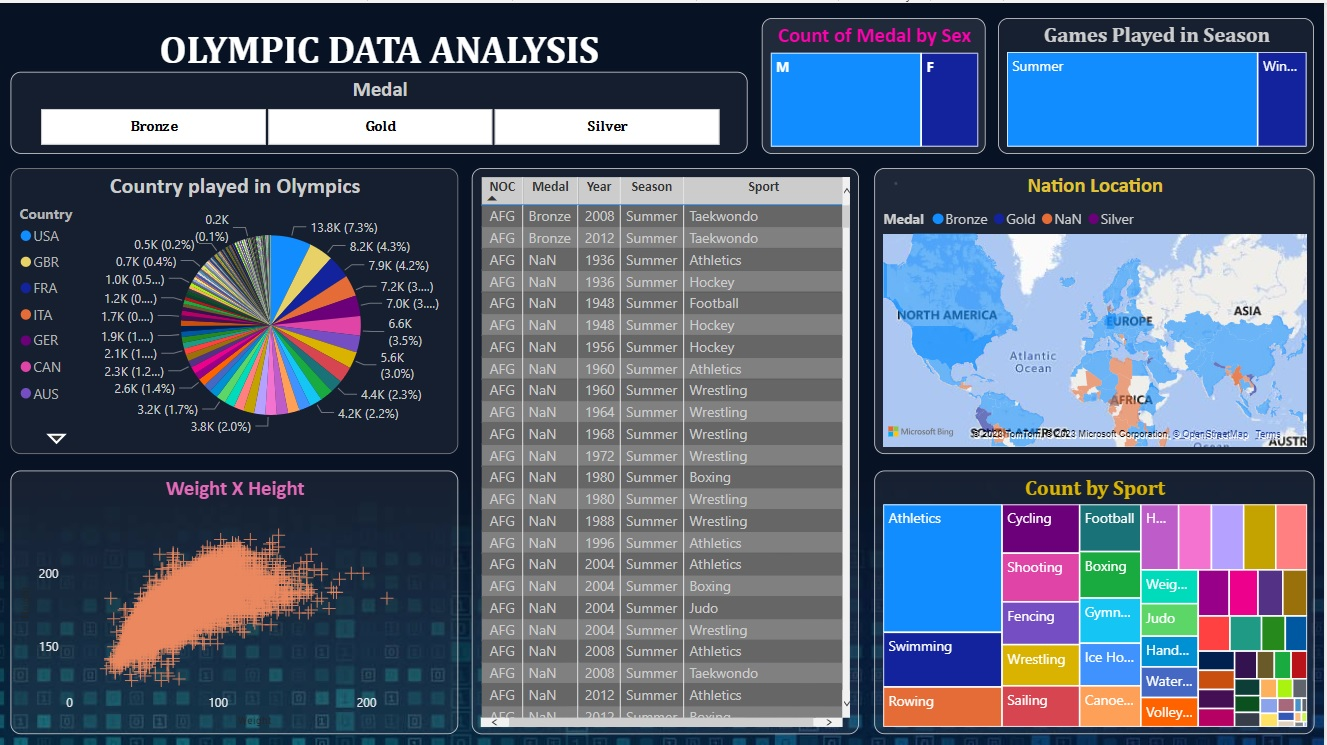

What the dashboard file says about the page in this screenshot:
{"tool":"powerbi","page":{"name":"Page 1","canvas":[1280,720],"ordinal":0},"visuals":[{"type":"pieChart","title":"Country played in Olympics","fields":{"Category":["Olympic_data_shorted.NOC"],"Y":["CountNonNull(Olympic_data_shorted.Medal)"]},"box":[12.1,159.2,431.8,276.2],"z":0},{"type":"tableEx","fields":{"Values":["Olympic_data_shorted.NOC","Olympic_data_shorted.Medal","Olympic_data_shorted.Year","Olympic_data_shorted.Season","Olympic_data_shorted.Sport"]},"box":[457.1,159.2,373.9,546.3],"z":1000},{"type":"slicer","title":"Medal","fields":{"Values":["Olympic_data_shorted.Medal"]},"box":[12.1,66.3,711.6,79.6],"z":2000},{"type":"filledMap","title":"Nation Location","fields":{"Category":["Olympic_data_shorted.NOC"],"Series":["Olympic_data_shorted.Medal"]},"box":[845.4,159.2,424.5,276.2],"z":3000},{"type":"scatterChart","title":"Weight X Height","fields":{"X":["Olympic_data_shorted.Weight"],"Y":["Olympic_data_shorted.Height"]},"box":[12.1,451.1,431.8,254.5],"z":4000},{"type":"treemap","fields":{"Group":["Olympic_data_shorted.Sex"],"Values":["CountNonNull(Olympic_data_shorted.Medal)"]},"box":[736.9,14.5,215.9,131.5],"z":5000},{"type":"treemap","title":"Count by Sport","fields":{"Group":["Olympic_data_shorted.Sport"],"Values":["CountNonNull(Olympic_data_shorted.Medal)"]},"box":[845.4,451.1,424.5,254.5],"z":6000},{"type":"treemap","title":"Games Played in Season","fields":{"Group":["Olympic_data_shorted.Season"],"Values":["CountNonNull(Olympic_data_shorted.Medal)"]},"box":[964.8,14.5,305.1,131.5],"z":7000},{"type":"textbox","box":[12.1,0,711.6,80.8],"z":8000}]}

Visuals, with their boxes in screenshot pixels (x1, y1, x2, y2), scaled from the page's 1280x720 canvas onto the 1327x745 screenshot:
"Country played in Olympics" pieChart: 13:165:460:451
tableEx - Olympic_data_shorted.NOC x Olympic_data_shorted.Medal: 474:165:862:730
"Medal" slicer: 13:69:750:151
"Nation Location" filledMap: 876:165:1317:451
"Weight X Height" scatterChart: 13:467:460:730
treemap - Olympic_data_shorted.Sex x CountNonNull(Olympic_data_shorted.Medal): 764:15:988:151
"Count by Sport" treemap: 876:467:1317:730
"Games Played in Season" treemap: 1000:15:1317:151
textbox: 13:0:750:84
